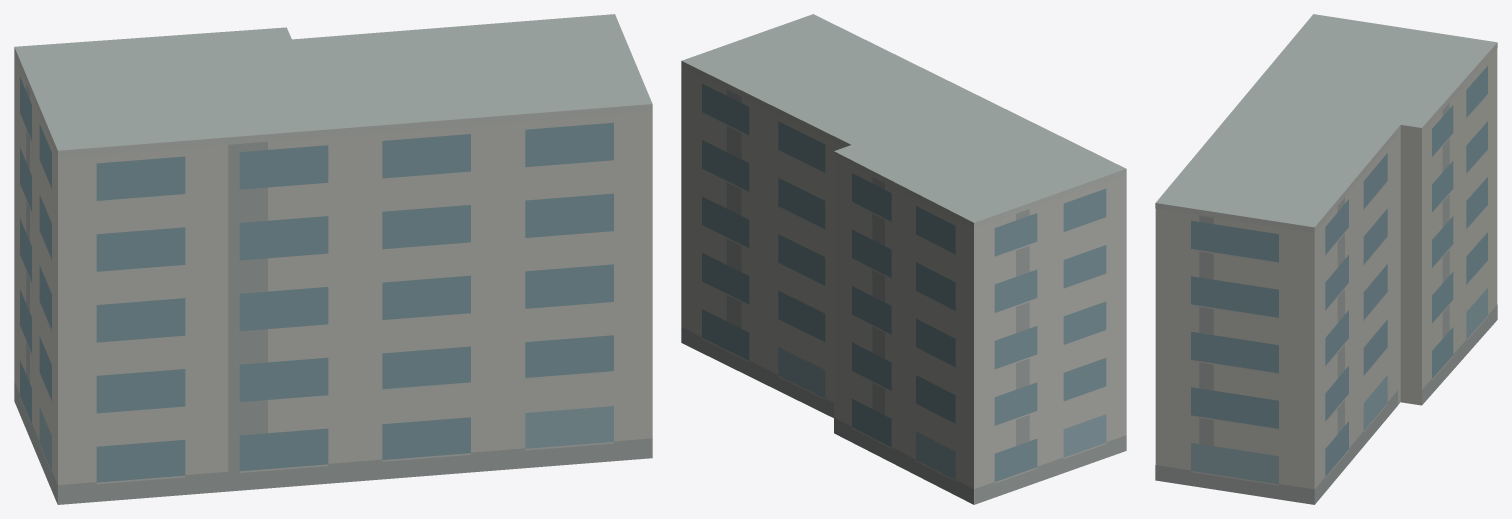
The model's file is survey-upis-32884111.glb.
3 views of the same model, side by side, from view 1: azimuth 30°, elevation 25°; view 2: azimuth 150°, elevation 25°; view 3: azimuth 270°, elevation 25° (orthographic). The views are drawn at different scales.
Parts seen in each view (by area): view 1: survey-upis-32884111.tmp; view 2: survey-upis-32884111.tmp; view 3: survey-upis-32884111.tmp.
Part boxes in pixels (box(x1,y1,x2,y2)): survey-upis-32884111.tmp: box(14, 14, 652, 504); survey-upis-32884111.tmp: box(681, 14, 1126, 504); survey-upis-32884111.tmp: box(1155, 14, 1497, 504).
Size of the model in its own units: 19.14 by 11.6 by 12.97.
